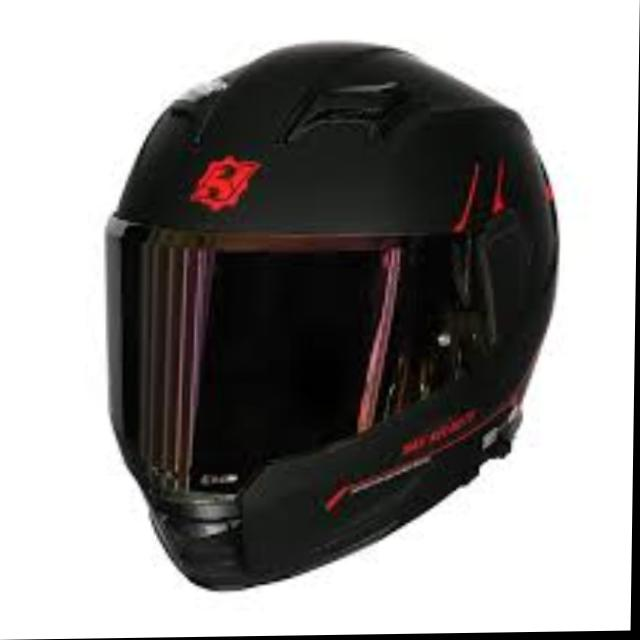motorcycle-helmets: (108, 47, 557, 585)
